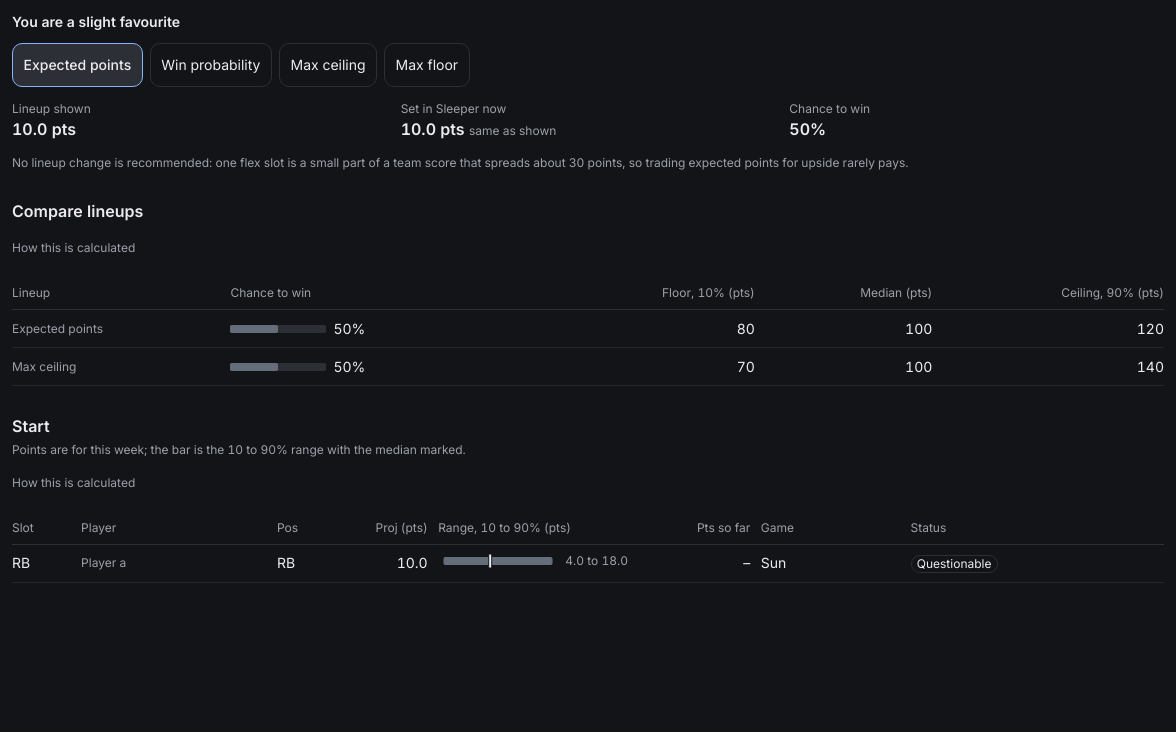
LineupView › choosing an objective swaps in that objective's lineup
Expected: the text "Boom Player" is not shown
Click the radio button labelled "Max ceiling".
click(328, 64)  # box [279, 42, 377, 86]
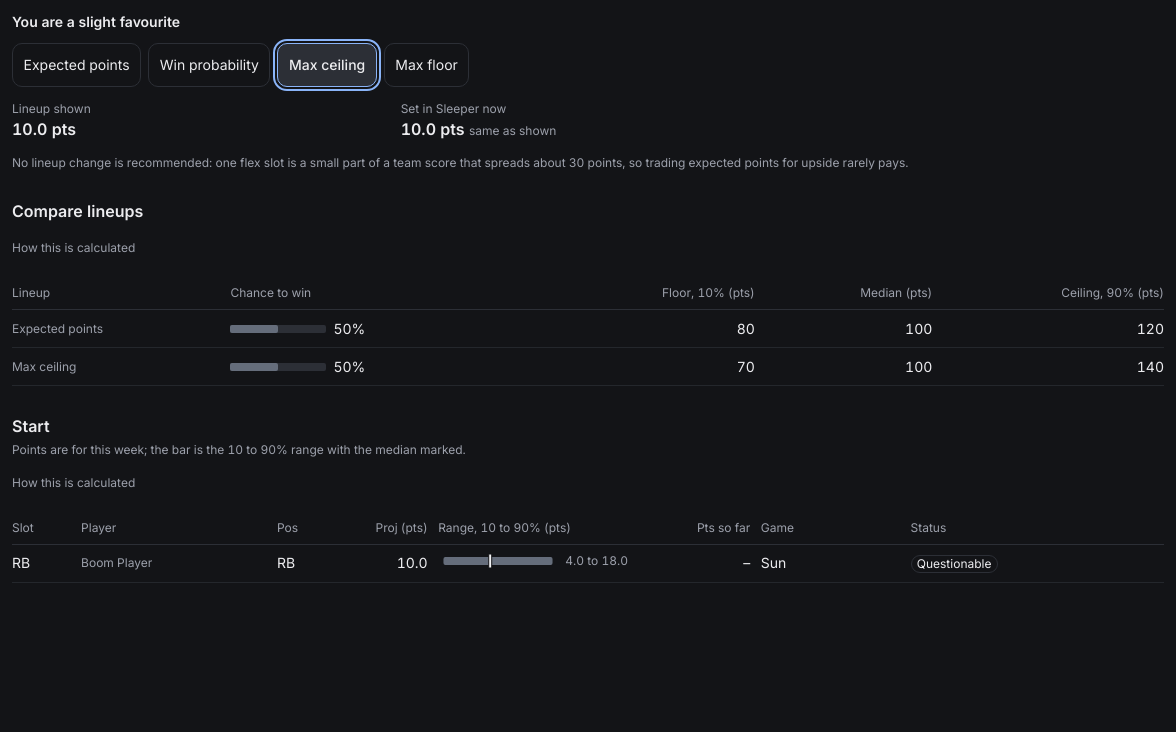
Expected: the column heading "Boom Player" is shown, [81, 545, 277, 583]
Expected: the column heading "Player a" is gone
